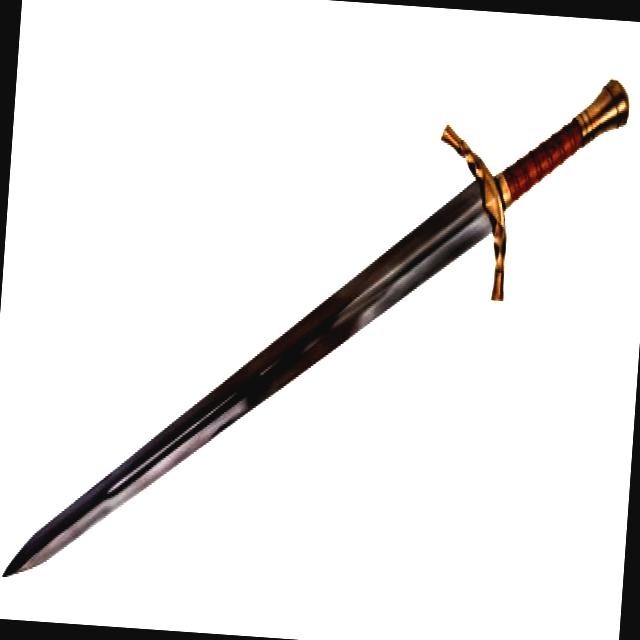long sword: (0, 30, 634, 621)
